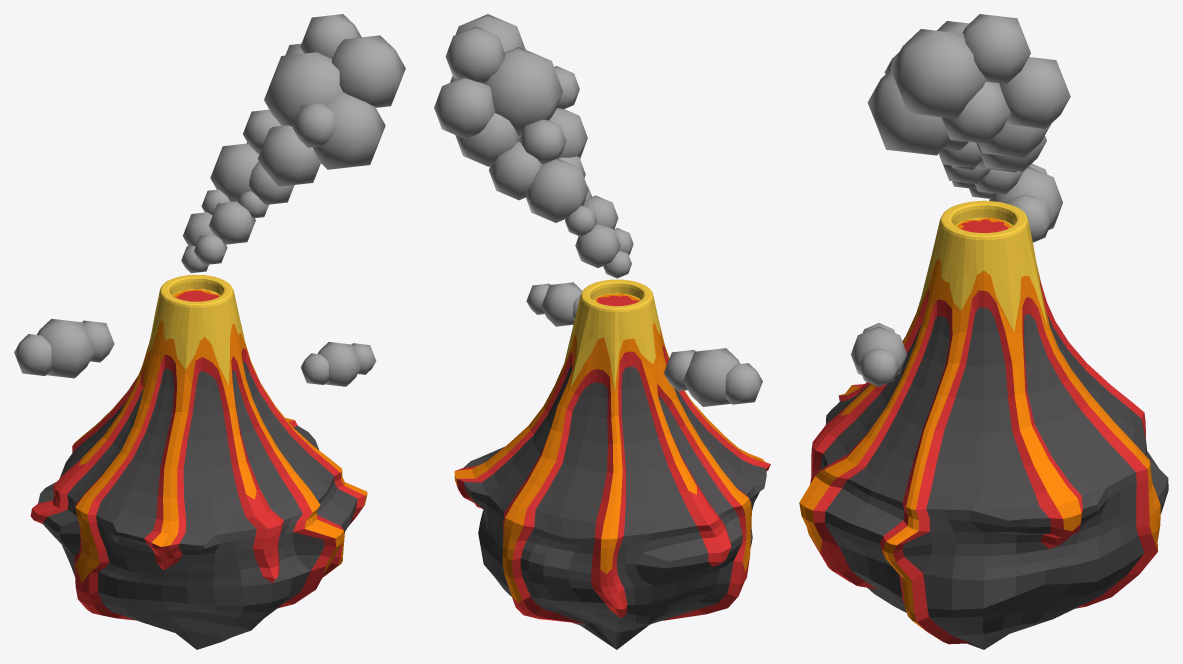
Rendered from Island_5.glb.
The picture shows the model from 3 angles, left to right: view 1: azimuth 30°, elevation 25°; view 2: azimuth 150°, elevation 25°; view 3: azimuth 270°, elevation 25°; orthographic projection. The views are drawn at different scales.
Parts seen in each view (by area): view 1: Island_5_Volcano, Island_5; view 2: Island_5_Volcano, Island_5; view 3: Island_5_Volcano, Island_5.
Boxes of the visible parts, x1=… form: Island_5_Volcano: x1=30, y1=274, x2=367, y2=649; Island_5: x1=14, y1=14, x2=405, y2=386; Island_5_Volcano: x1=454, y1=279, x2=770, y2=649; Island_5: x1=434, y1=14, x2=762, y2=406; Island_5_Volcano: x1=799, y1=200, x2=1168, y2=649; Island_5: x1=851, y1=14, x2=1070, y2=386.
Size of the model in its own units: 34.3 by 56.54 by 26.47.
Materials: 1 (1 with a texture image).
